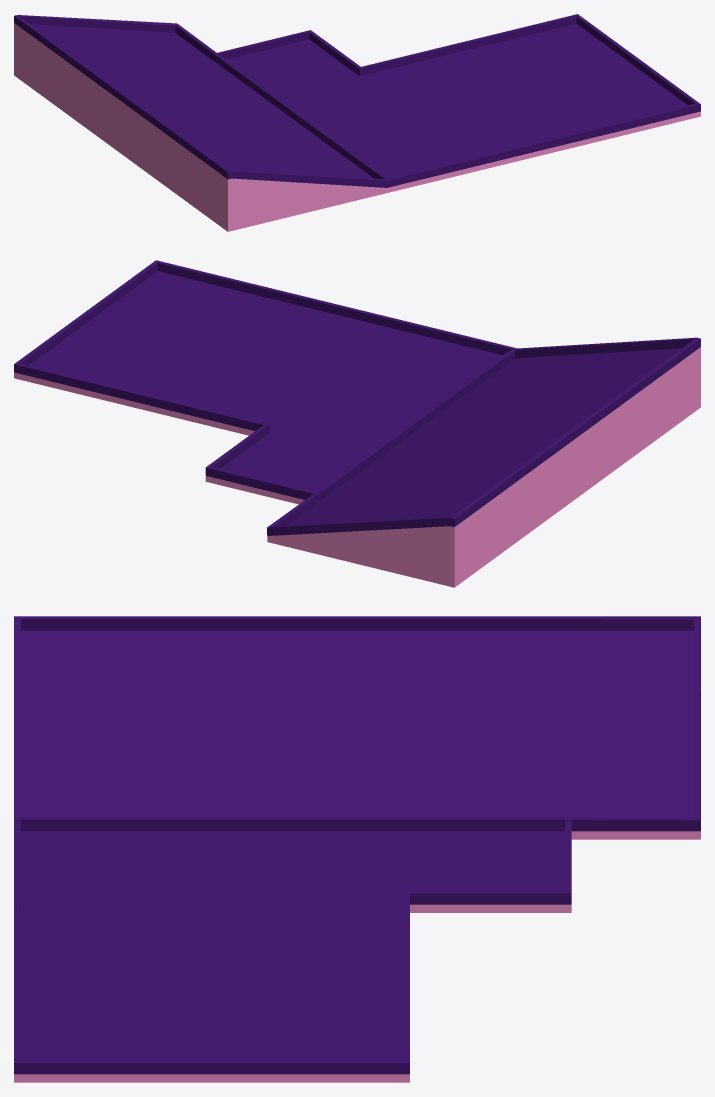
Rendered from Techo_Player1.fbx.
3 views of the same model, one above another, from view 1: azimuth 30°, elevation 25°; view 2: azimuth 150°, elevation 25°; view 3: azimuth 270°, elevation 25° (orthographic). The views are drawn at different scales.
Visible parts, largest first — view 1: TechoRosa; view 2: TechoRosa; view 3: TechoRosa.
Part boxes in pixels (bbox=[...]): TechoRosa: bbox=[14, 14, 700, 231]; TechoRosa: bbox=[14, 260, 700, 587]; TechoRosa: bbox=[14, 616, 700, 1082].
Size of the model in its own units: 1497 by 180 by 1173.
